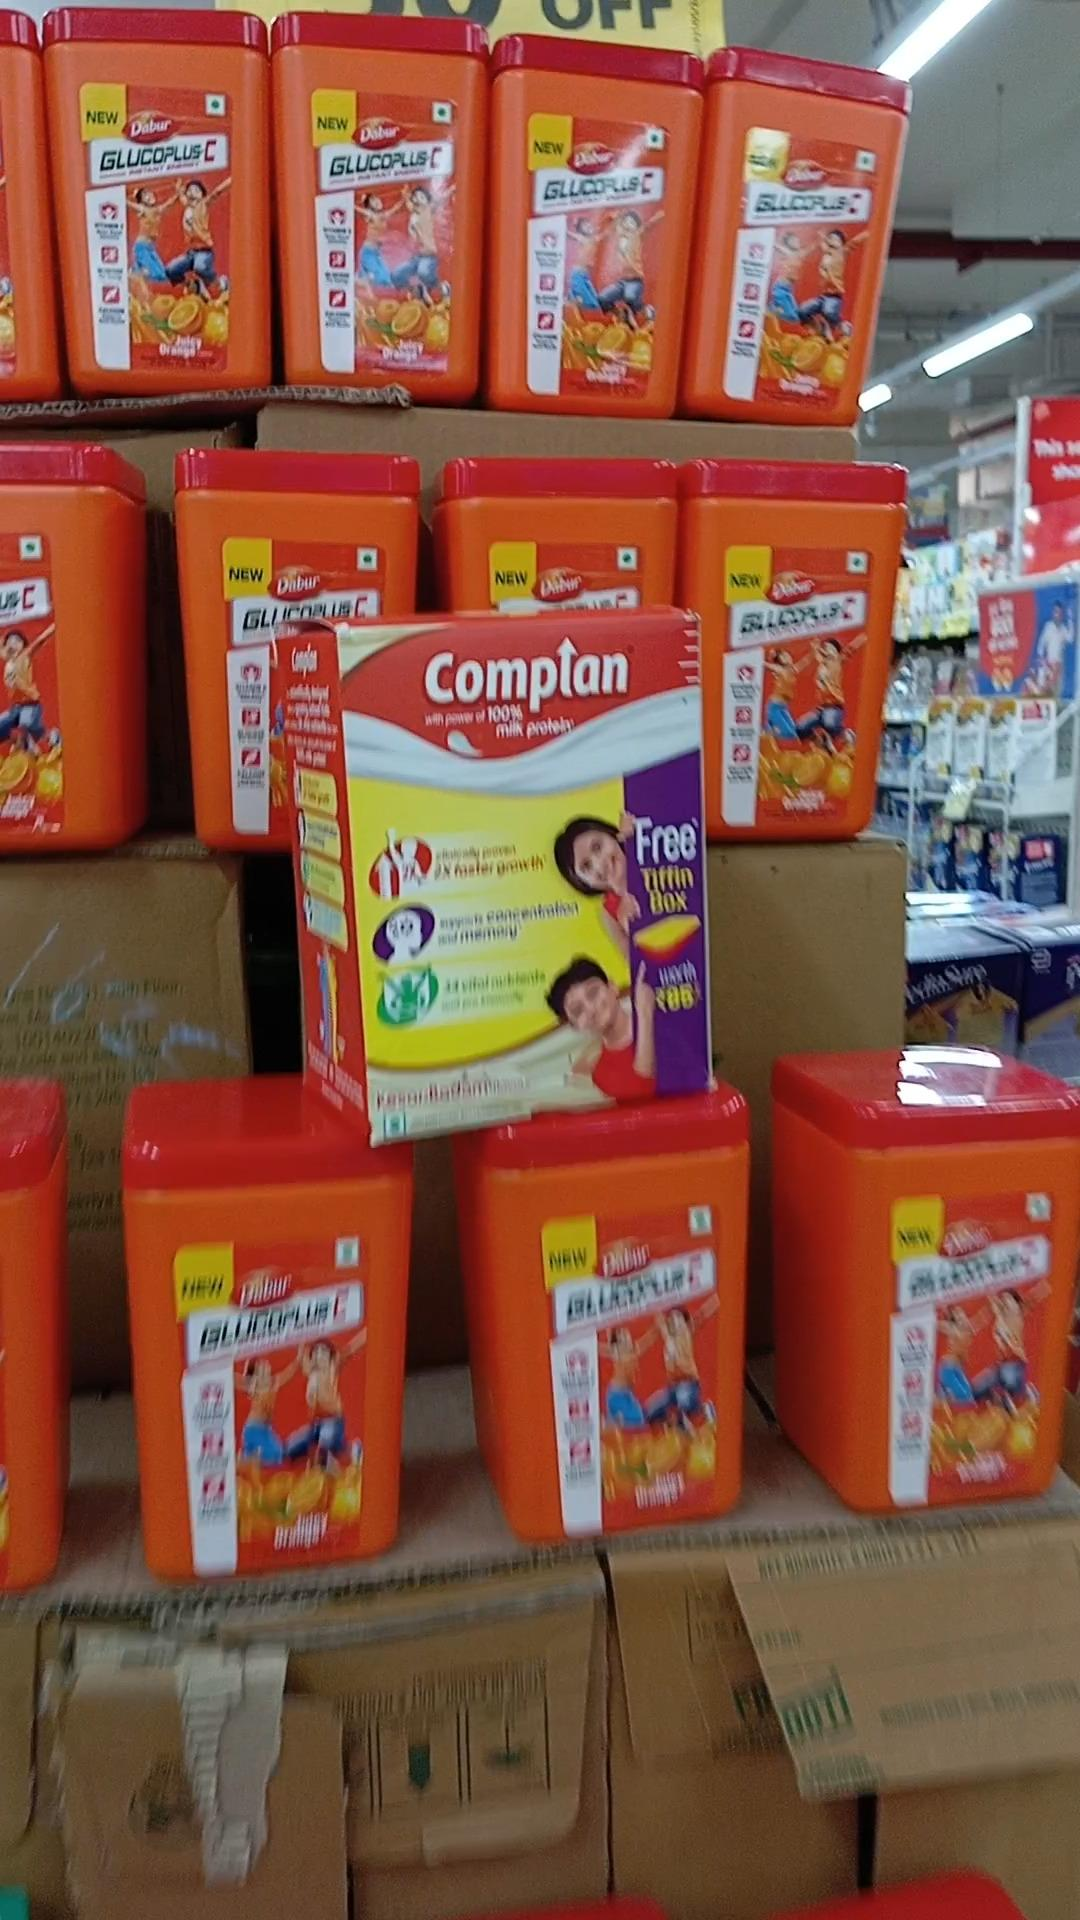COMPLAN_KESAR_BADAM_500_GMS_PACK: (340, 617, 709, 1133)
